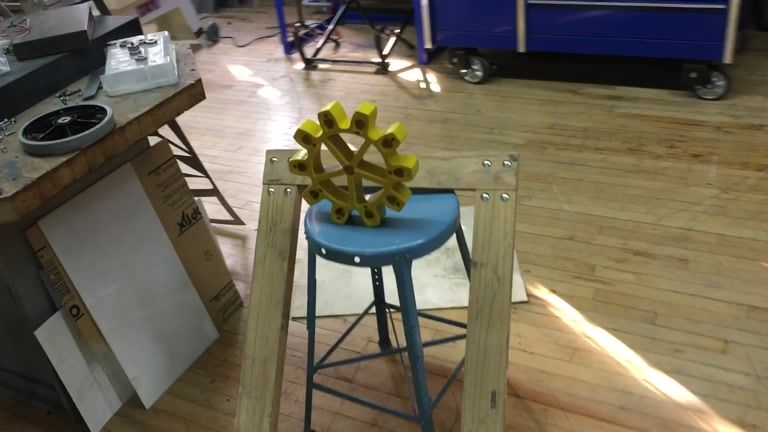gear: (286, 100, 421, 228)
